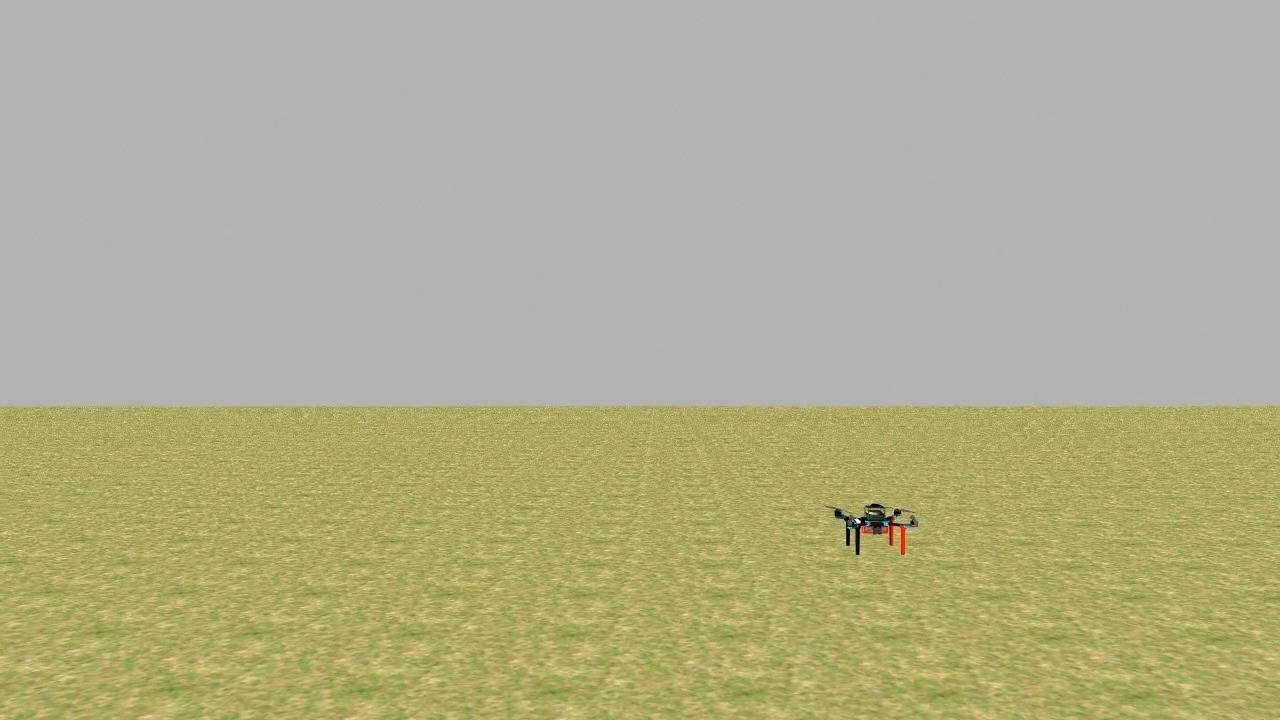UAV: (823, 491, 930, 560)
